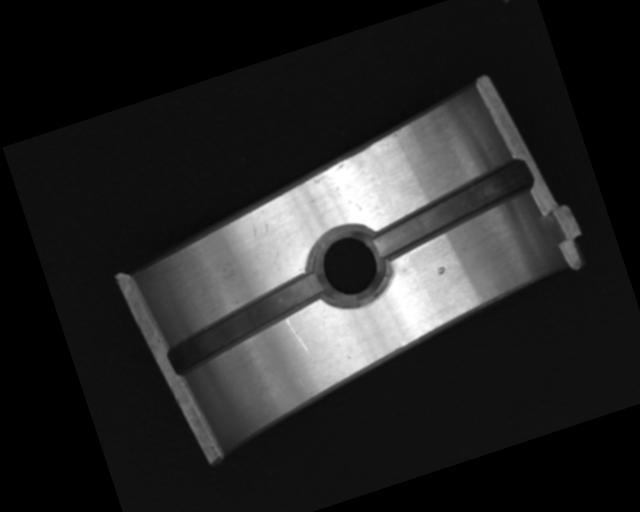bruise: (435, 264, 446, 276)
gap: (157, 268, 335, 377), (362, 157, 541, 260)
hole: (300, 216, 396, 318)
nick: (285, 314, 311, 359)
